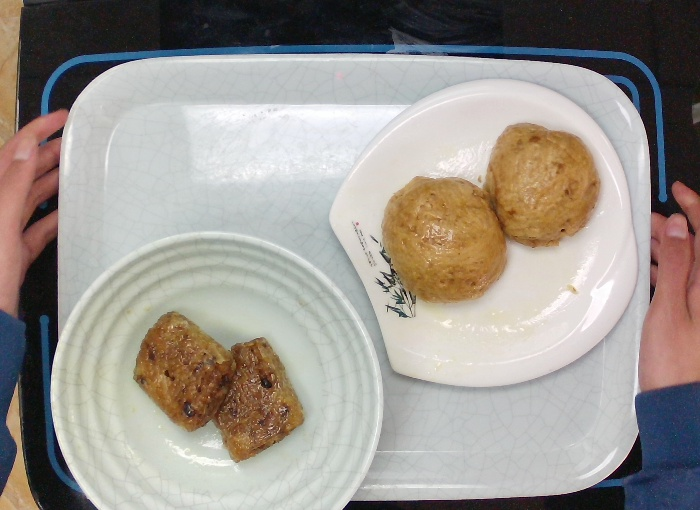JYsf-Da_Tang_Wan: (46, 228, 385, 510)
JYsf-Mian_Pan: (326, 74, 641, 390)
